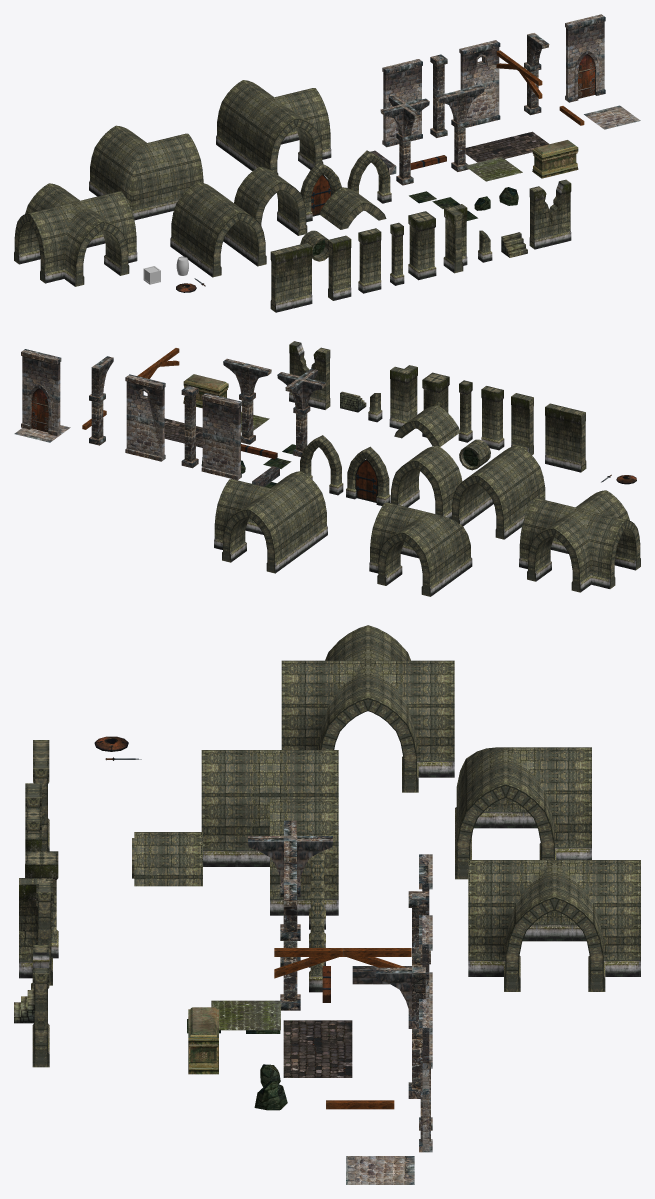
Rendered from Labyrinth_all.FBX.
3 renders of one model, top to bottom at view 1: azimuth 30°, elevation 25°; view 2: azimuth 150°, elevation 25°; view 3: azimuth 270°, elevation 25°, orthographic. The views are drawn at different scales.
Parts seen in each view (by area): view 1: arc_cross, arc_triple, arc_corner, arc_big, arc_2, wall_windowed, wall_long, wall_doored, wall_long_broken, wall, column_big, column_arc_full (+21 smaller); view 2: arc_cross, arc_triple, arc_corner, arc_big, wall, wall_windowed, arc_2, wall_long, wall_doored, wall_corner, column_arc_full, wall_long_broken (+18 smaller); view 3: arc_triple, arc_cross, arc_corner, arc_big, arc_2, arc_003, wall_corner, column_arc_full, column_arc1, column_arc2, perekr, floor_z_1 (+12 smaller).
Boxes of the visible parts, <box> form: arc_cross: <box>14,183,137,286</box>; arc_triple: <box>216,80,331,174</box>; arc_corner: <box>89,125,203,220</box>; arc_big: <box>170,182,266,277</box>; arc_2: <box>234,167,307,235</box>; wall_windowed: <box>459,40,500,127</box>; wall_long: <box>270,243,312,312</box>; wall_doored: <box>565,14,605,102</box>; wall_long_broken: <box>529,179,571,249</box>; wall: <box>382,59,422,147</box>; column_big: <box>408,211,436,280</box>; column_arc_full: <box>380,95,429,185</box>; arc_cross: <box>519,490,640,592</box>; arc_triple: <box>214,471,327,573</box>; arc_corner: <box>369,502,472,596</box>; arc_big: <box>451,445,545,539</box>; wall: <box>201,393,241,480</box>; wall_windowed: <box>125,374,165,461</box>; arc_2: <box>391,445,462,518</box>; wall_long: <box>545,403,586,472</box>; wall_doored: <box>21,349,61,436</box>; wall_corner: <box>389,365,417,429</box>; column_arc_full: <box>277,368,325,456</box>; wall_long_broken: <box>289,341,330,409</box>; arc_triple: <box>468,860,640,991</box>; arc_cross: <box>281,625,454,792</box>; arc_corner: <box>455,747,591,879</box>; arc_big: <box>201,750,338,866</box>; arc_2: <box>270,799,338,915</box>; arc_003: <box>134,832,202,886</box>; wall_corner: <box>19,878,52,985</box>; column_arc_full: <box>248,820,332,966</box>; column_arc1: <box>376,967,425,1098</box>; column_arc2: <box>280,864,300,1010</box>; perekr: <box>274,948,411,978</box>; floor_z_1: <box>283,1049,352,1077</box>.
Bounding box in the file's own units: 1303 × 242 × 720.
